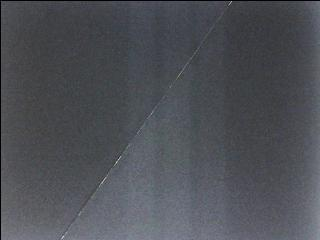crack: (54, 0, 240, 240)
